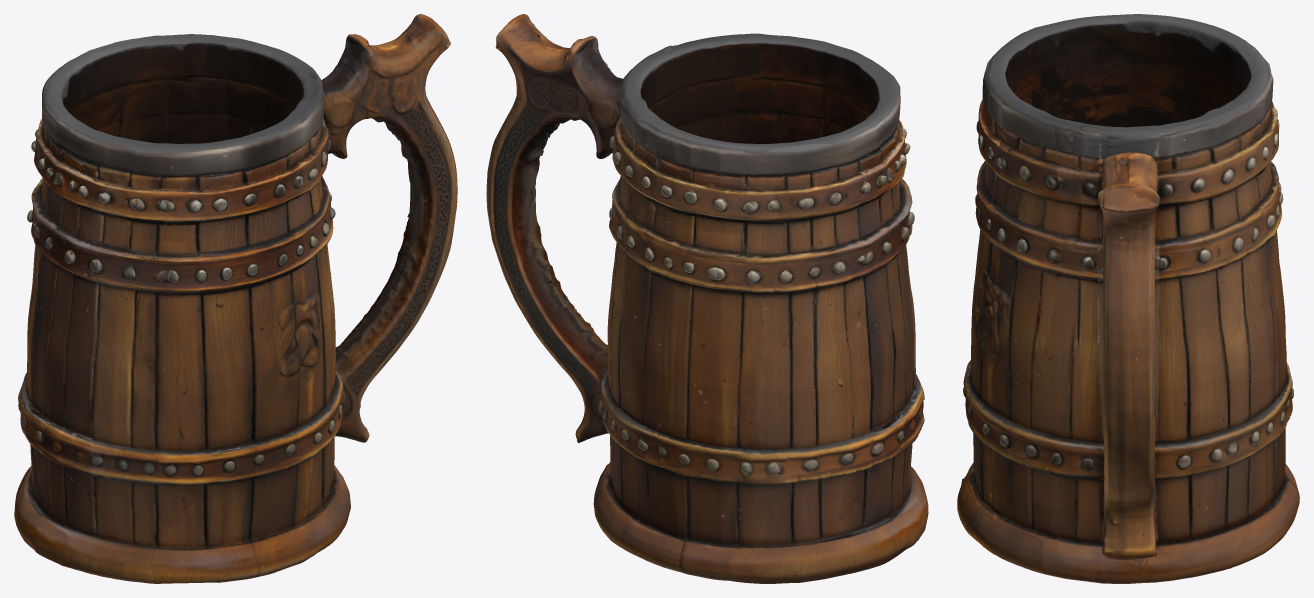
The model's file is A_handcrafted_Viking__0721213421_texture.fbx.
3 renders of one model, left to right at view 1: azimuth 30°, elevation 25°; view 2: azimuth 150°, elevation 25°; view 3: azimuth 270°, elevation 25°, orthographic. The views are drawn at different scales.
Parts seen in each view (by area): view 1: Mesh_0; view 2: Mesh_0; view 3: Mesh_0.
Boxes of the visible parts, x1,y1,x2,y2 form: Mesh_0: (14,14,457,583); Mesh_0: (486,14,928,583); Mesh_0: (957,14,1299,583).
Bounding box in the file's own units: 197 × 198 × 135.
1 material, 1 textured.
